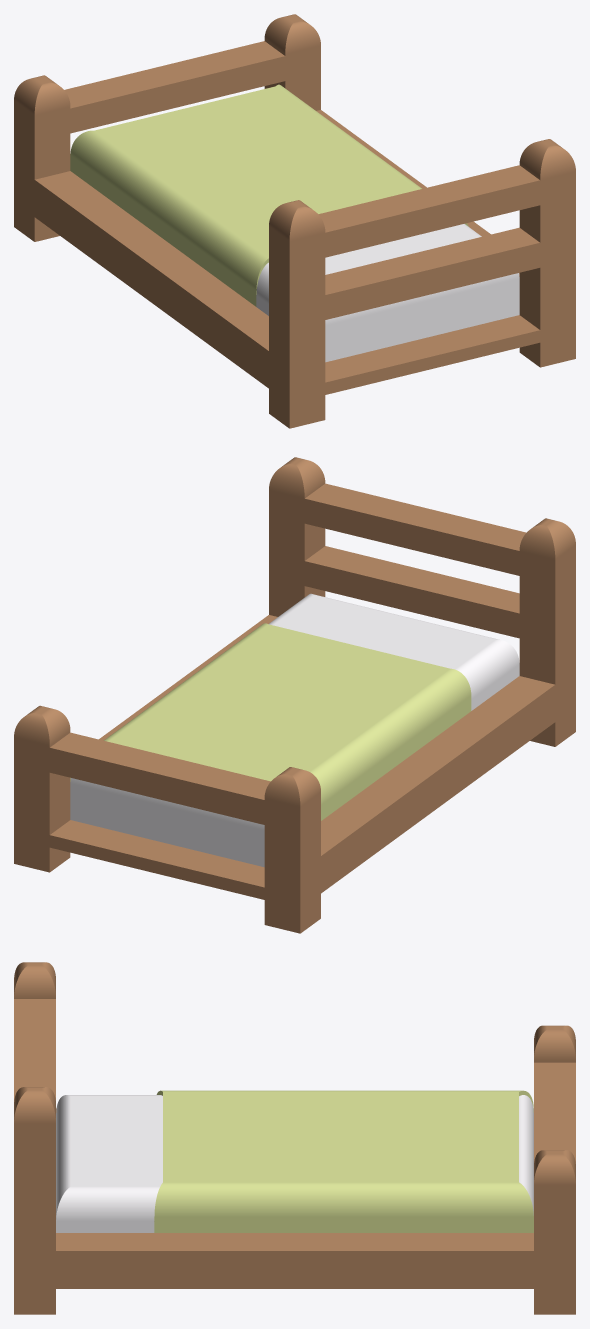
The model's file is bed.glb.
3 views of the same model, one above another, from view 1: azimuth 30°, elevation 25°; view 2: azimuth 150°, elevation 25°; view 3: azimuth 270°, elevation 25° (orthographic).
Parts seen in each view (by area): view 1: Bed-col; view 2: Bed-col; view 3: Bed-col.
Boxes of the visible parts, left/top/right/bottom form: Bed-col: left=14, top=14, right=575, bottom=428; Bed-col: left=14, top=457, right=575, bottom=933; Bed-col: left=14, top=962, right=575, bottom=1314.
Bounding box in the file's own units: 24 × 17 × 40.
